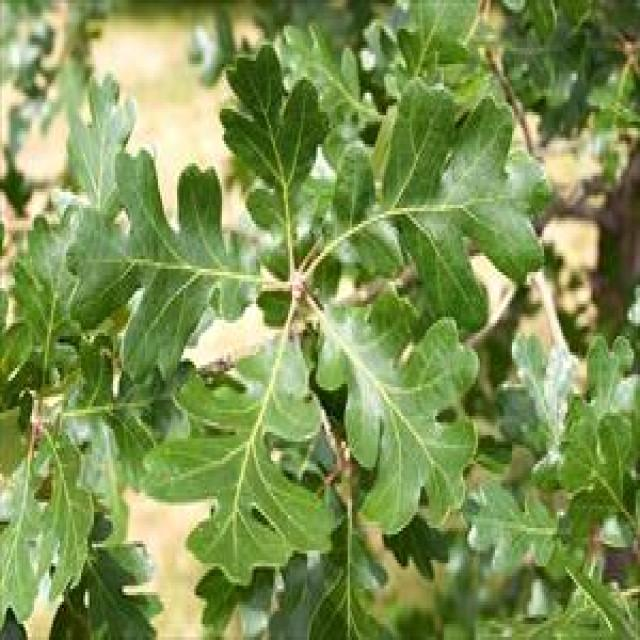Quercus garryana: (57, 39, 550, 522)
